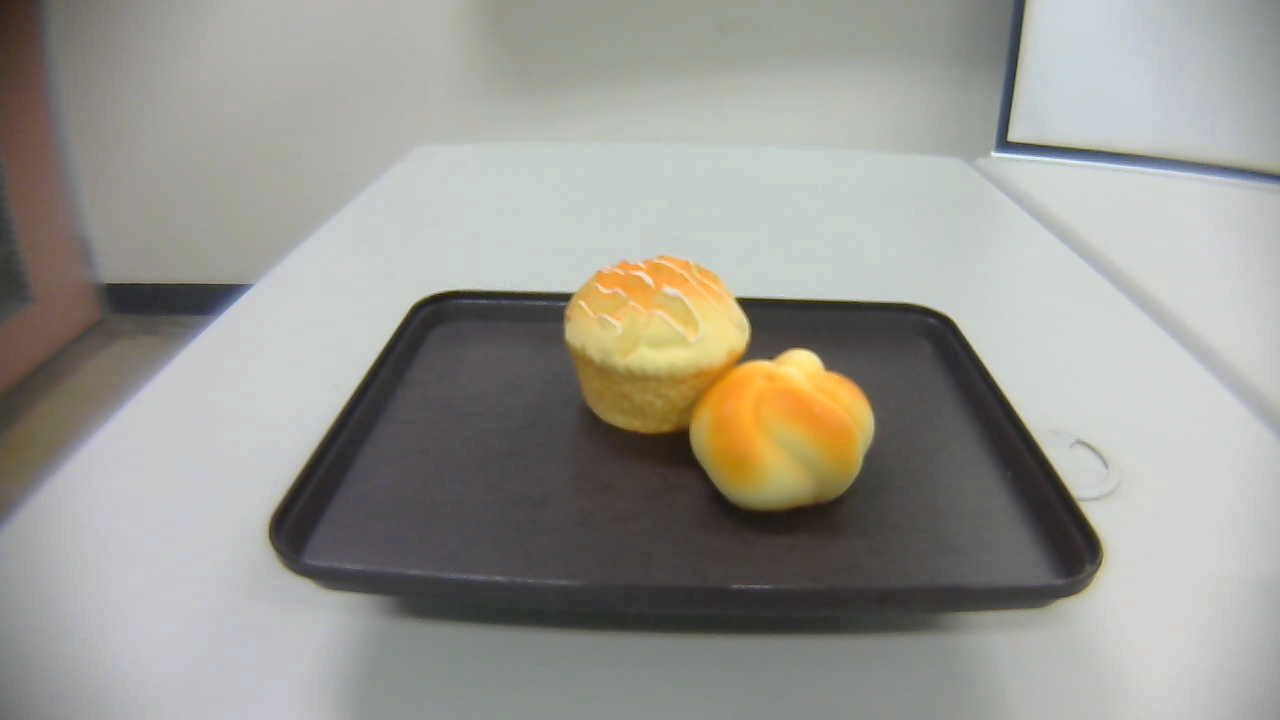cupcake: (563, 252, 751, 437)
twist bread: (690, 347, 877, 513)
